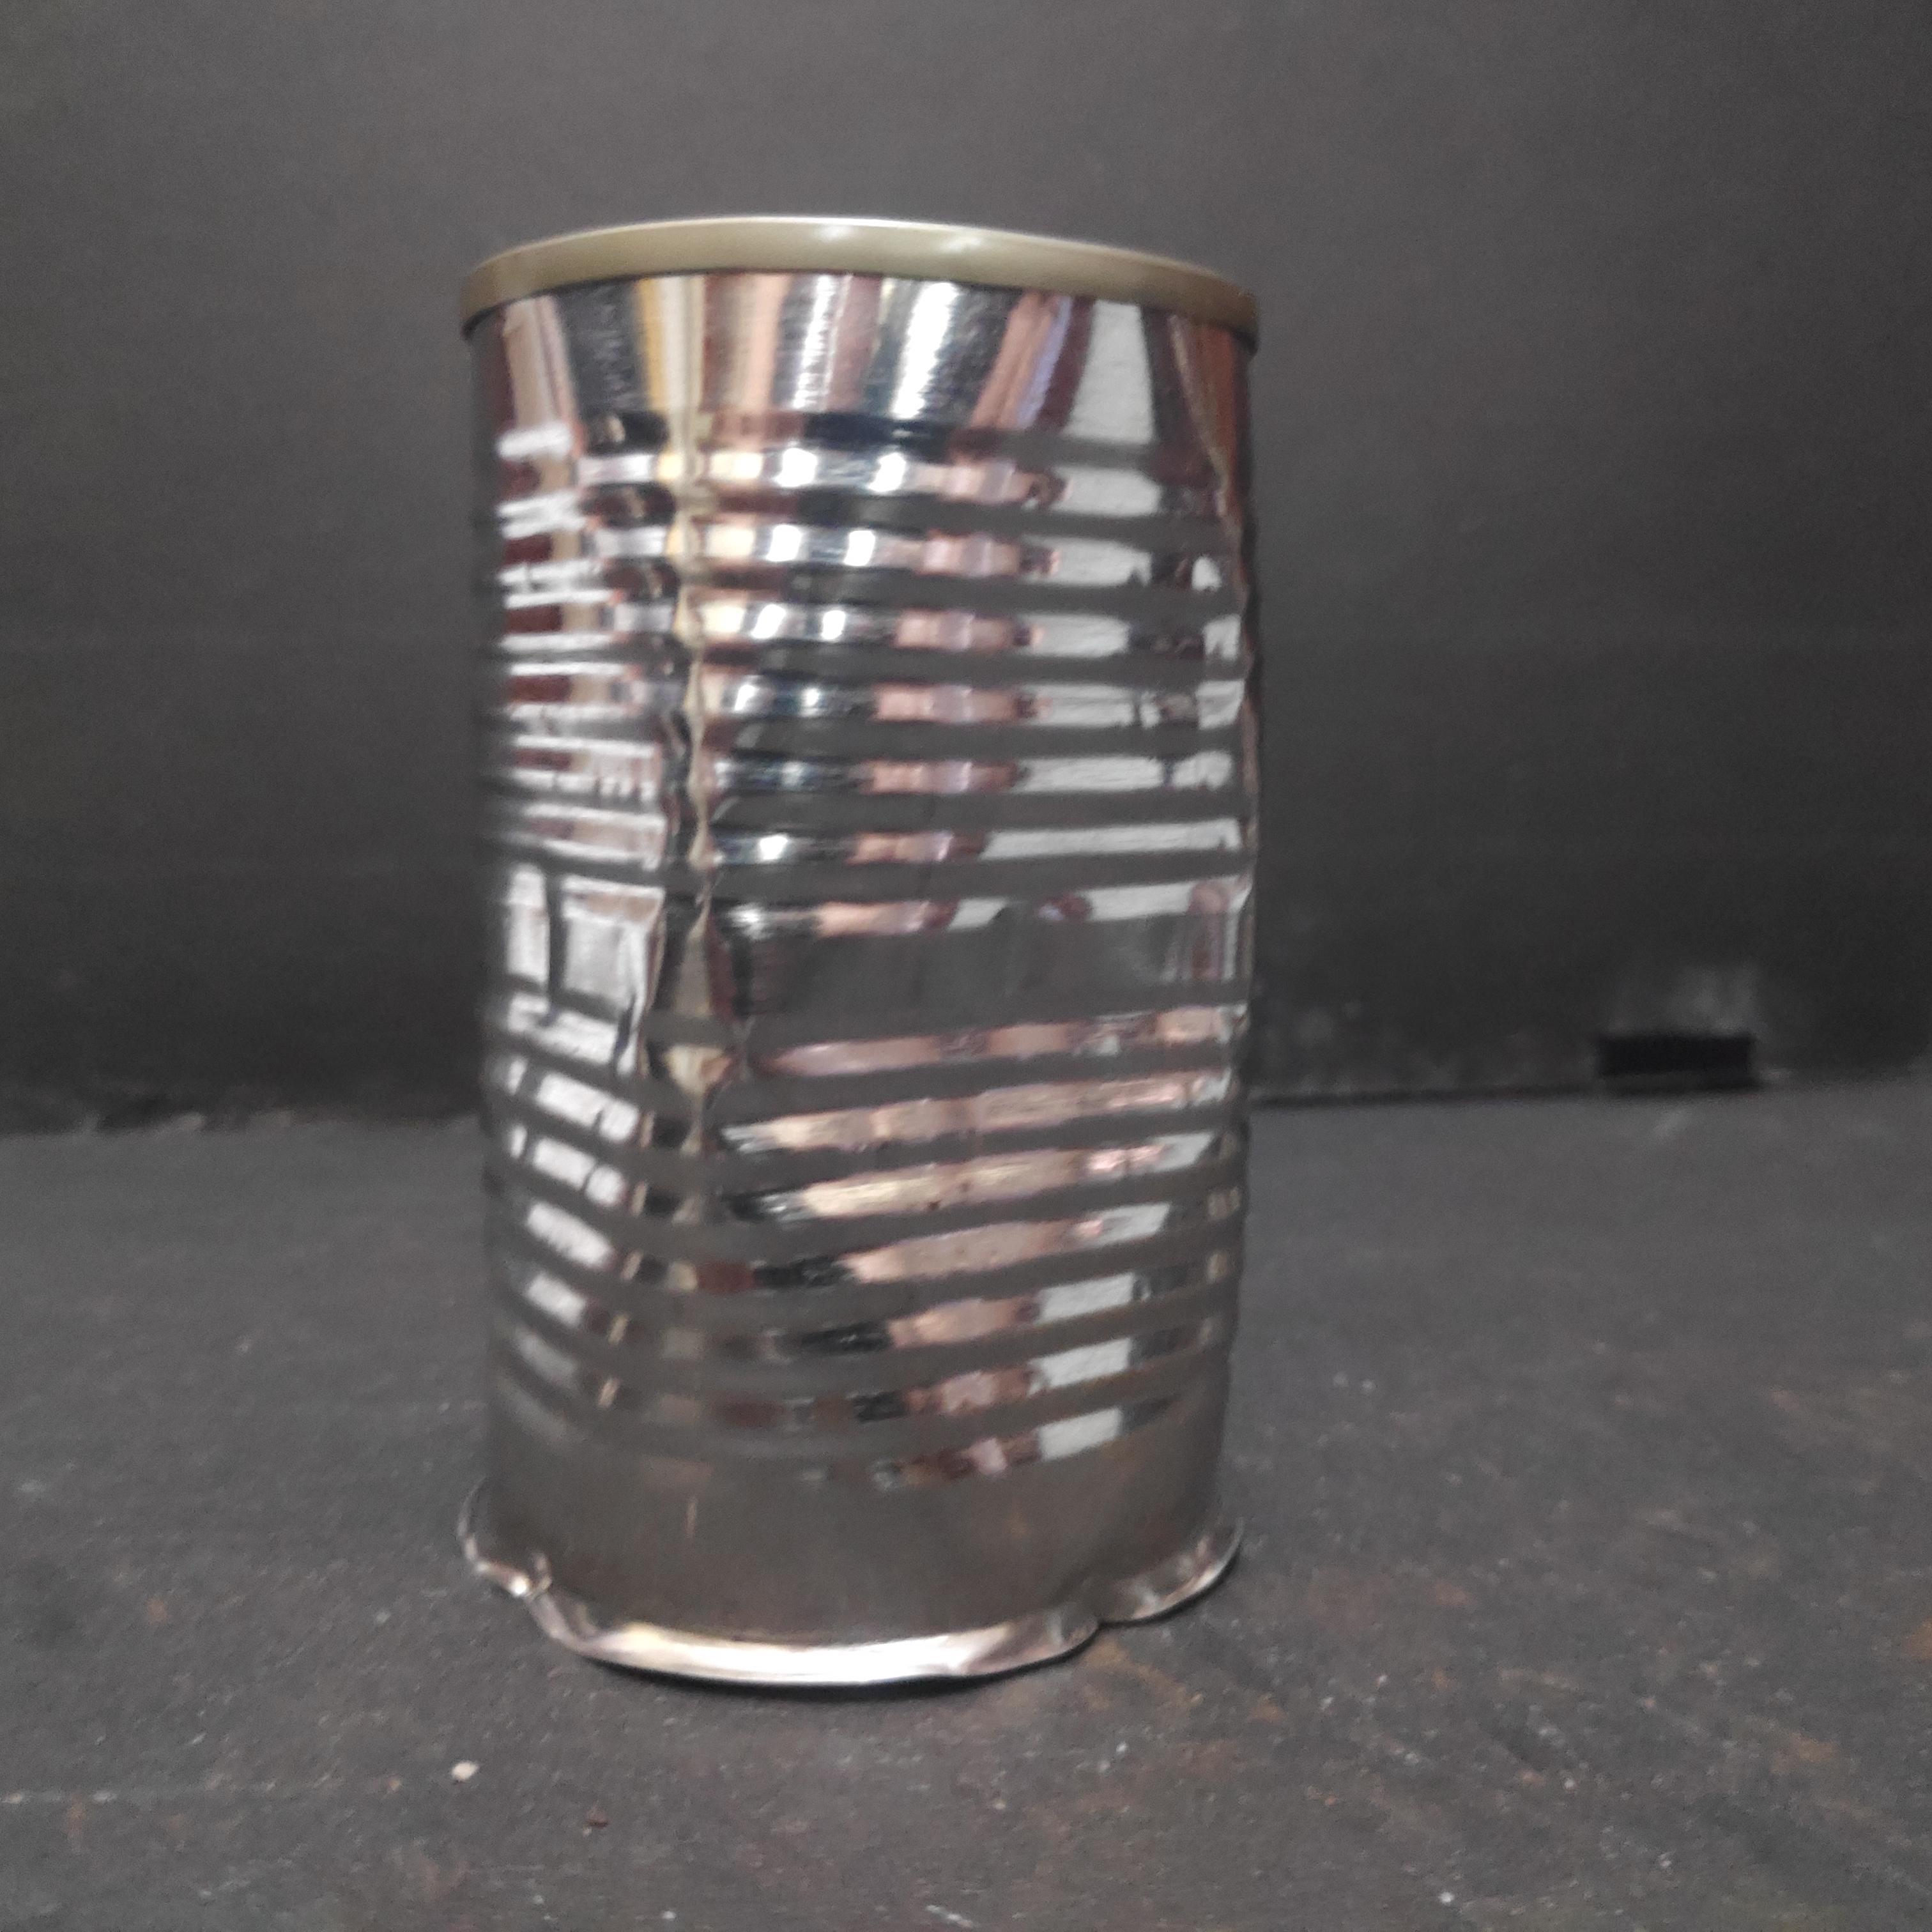Minor Defect: (442, 202, 1292, 1703)
